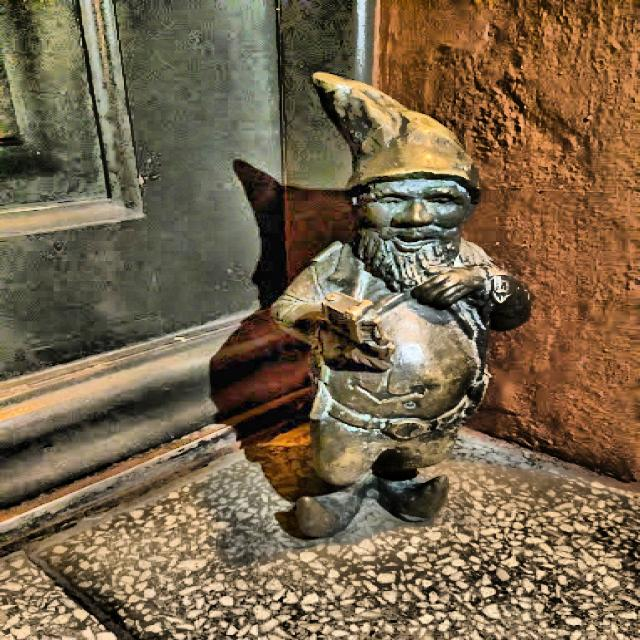TatuazystaKonstanty: (274, 74, 529, 537)
